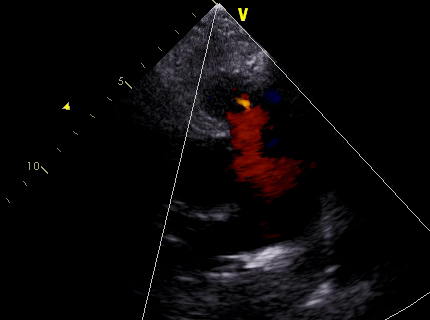PR: (218, 87, 296, 190)
